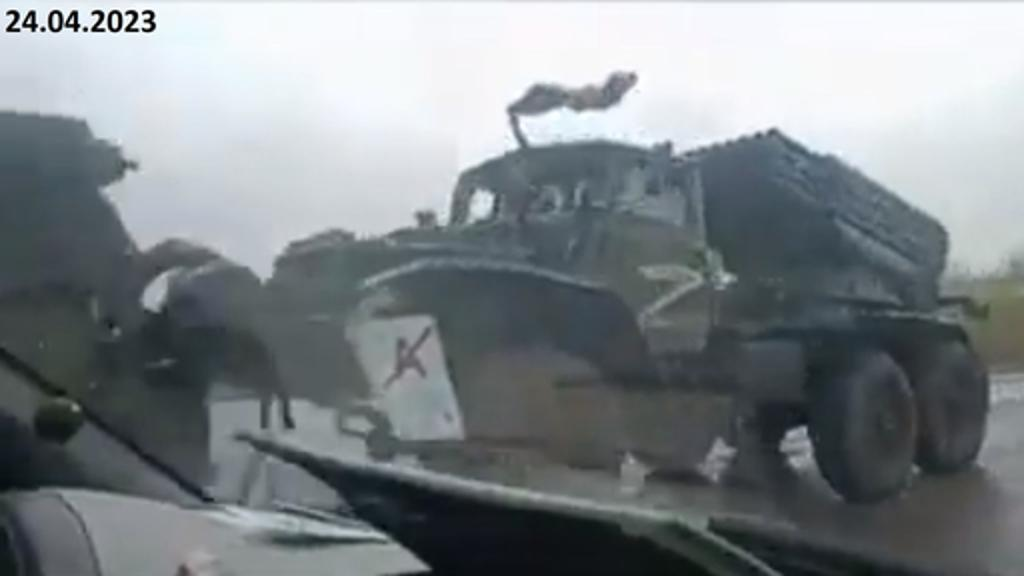MLRS: (264, 114, 986, 496)
